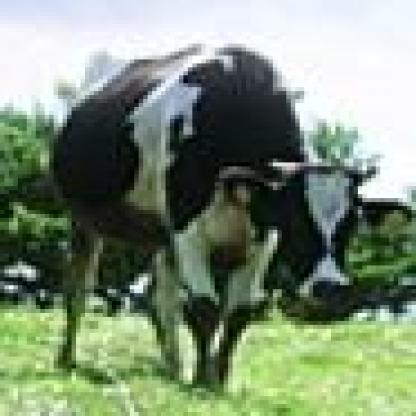cow: (53, 46, 376, 386)
